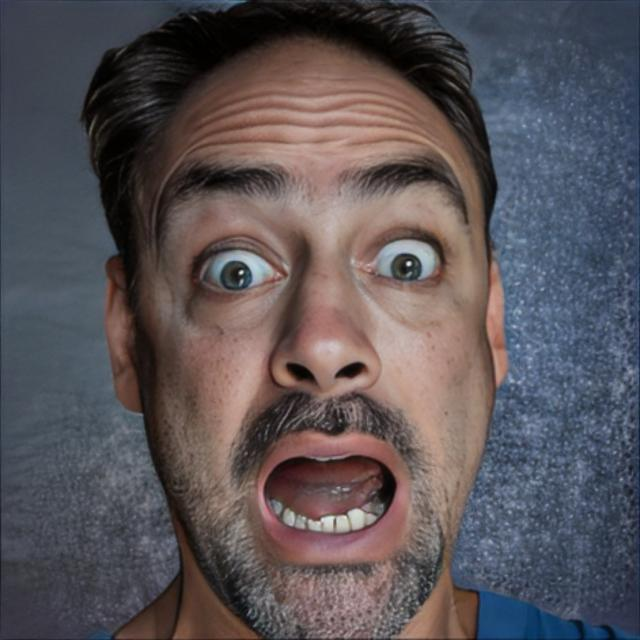fear: (128, 38, 494, 640)
